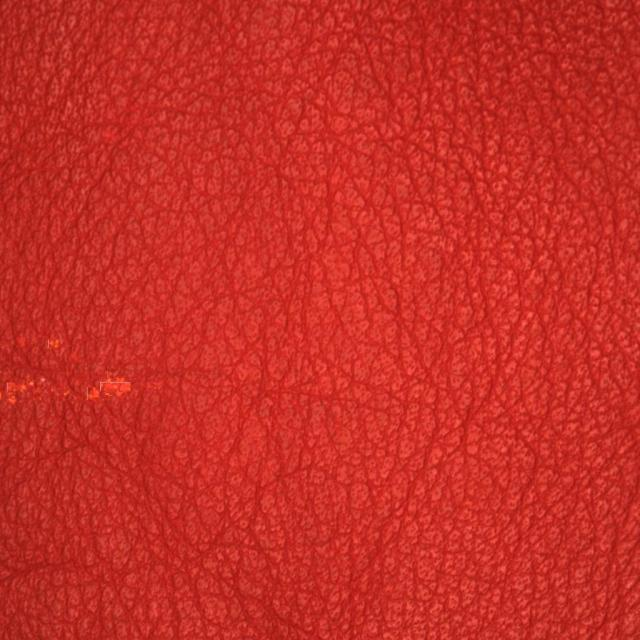Rotten surface: (15, 300, 206, 467)
